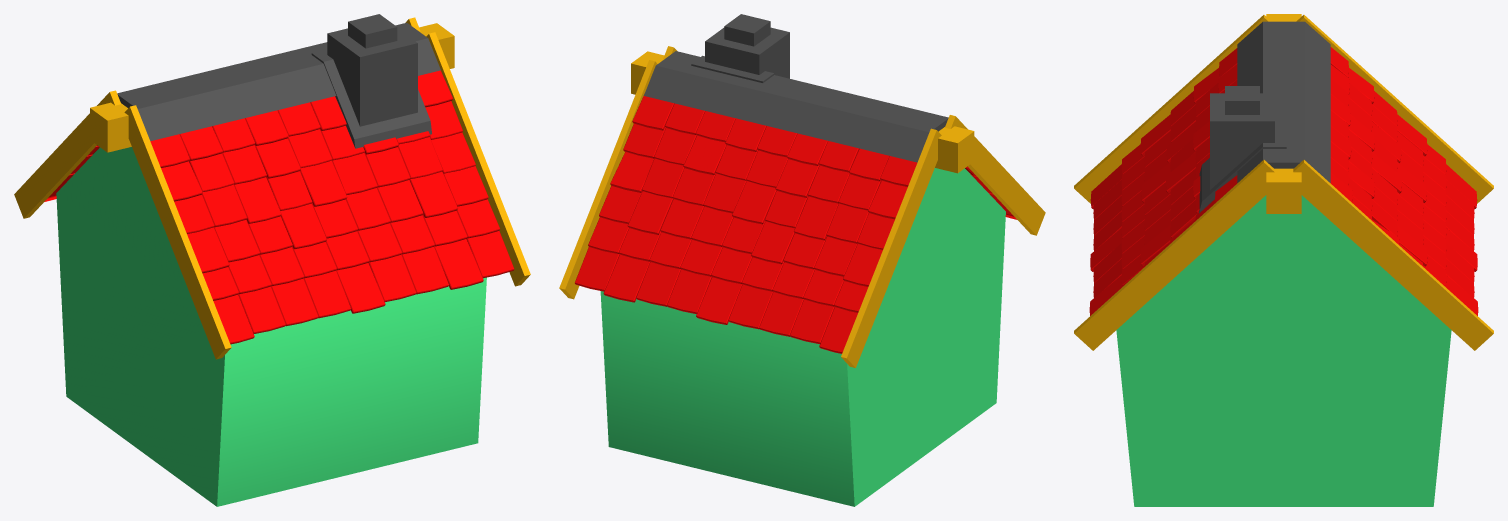
The model's file is HouseTest.fbx.
3 views of the same model, side by side, from view 1: azimuth 30°, elevation 25°; view 2: azimuth 150°, elevation 25°; view 3: azimuth 270°, elevation 25° (orthographic). The views are drawn at different scales.
Visible parts, largest first — view 1: House, RoofS, SideWood (×2), tile_4 (×6), tile_1 (×6), tile_3 (×6), tile (×6), tile_5 (×6), tile_6 (×6), tile_2 (×6), Chim1, tile_8 (×4) (+4 smaller); view 2: House, RoofS, SideWood (×2), tile_4 (×6), tile_7 (×6), tile_8 (×6), tile_5 (×6), tile_1 (×6), tile_3 (×6), tile (×6), tile_2 (×6), tile_6 (×6) (+4 smaller); view 3: House, SideWood (×2), RoofS, Chim1, tile_5 (×4), tile_3 (×4), tile_1 (×4), tile_8 (×4), tile (×4), Beam, RoofS1, tile_4 (×2) (+3 smaller).
Part boxes in pixels (x1,y1,x2,y2): House: (56,147,486,506); RoofS: (117,22,440,140); SideWood (×2): (14,17,530,359); tile_4 (×6): (179,126,488,313); tile_1 (×6): (187,110,377,333); tile_3 (×6): (277,102,357,318); tile (×6): (212,118,304,344); tile_5 (×6): (266,96,467,301); tile_6 (×6): (150,134,448,294); tile_2 (×6): (202,70,453,326); Chim1: (327,28,417,126); tile_8 (×4): (280,137,514,278); House: (600,168,1005,506); RoofS: (644,51,948,162); SideWood (×2): (559,46,1045,367); tile_4 (×6): (599,148,889,324); tile_7 (×6): (603,111,751,302); tile_8 (×6): (575,103,794,291); tile_5 (×6): (618,118,808,313); tile_1 (×6): (703,133,882,344); tile_3 (×6): (722,126,797,329); tile (×6): (772,141,859,353); tile_2 (×6): (632,96,868,336); tile_6 (×6): (636,156,917,306); House: (1116,195,1451,506); SideWood (×2): (1074,15,1493,350); RoofS: (1237,21,1330,182); Chim1: (1210,93,1274,189); tile_5 (×4): (1093,225,1474,283); tile_3 (×4): (1093,152,1474,250); tile_1 (×4): (1093,114,1474,219); tile_8 (×4): (1141,162,1426,238); tile (×4): (1090,122,1477,209); Beam: (1266,14,1301,213); RoofS1: (1199,110,1286,213); tile_4 (×2): (1090,228,1477,271).
Bounding box in the file's own units: 266 × 287 × 280.
